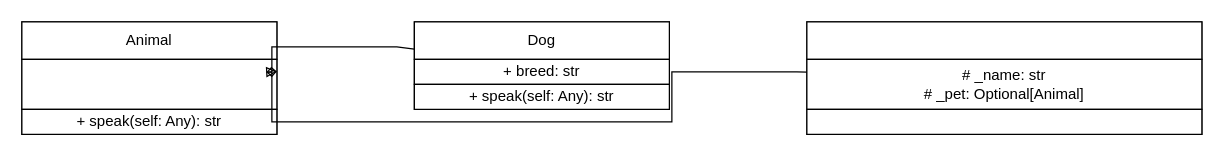
This 1224x156 diagram has some shape labels left out. Each missing label, with the centre of its shape:
"+ adopt(self: Any, animal: Any): None" belongs at point 1004,121.
"+ name: str + age: int" belongs at point 149,83.
"Owner" belongs at point 1004,40.
